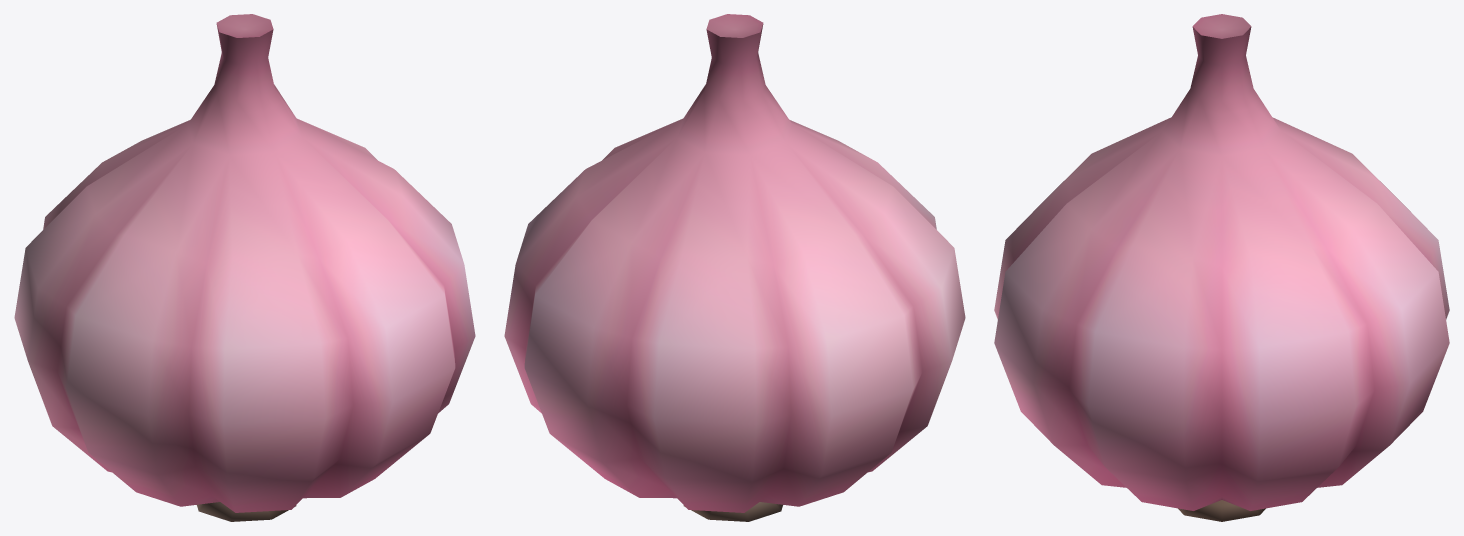
File: garlic.fbx
3 renders of one model, left to right at view 1: azimuth 30°, elevation 25°; view 2: azimuth 150°, elevation 25°; view 3: azimuth 270°, elevation 25°, orthographic.
Visible parts, largest first — view 1: garlic; view 2: garlic; view 3: garlic.
Boxes of the visible parts, x1,y1,x2,y2 form: garlic: [14, 14, 475, 521]; garlic: [504, 14, 965, 521]; garlic: [994, 14, 1449, 521].
Size of the model in its own units: 9.5 by 11.09 by 9.5.
